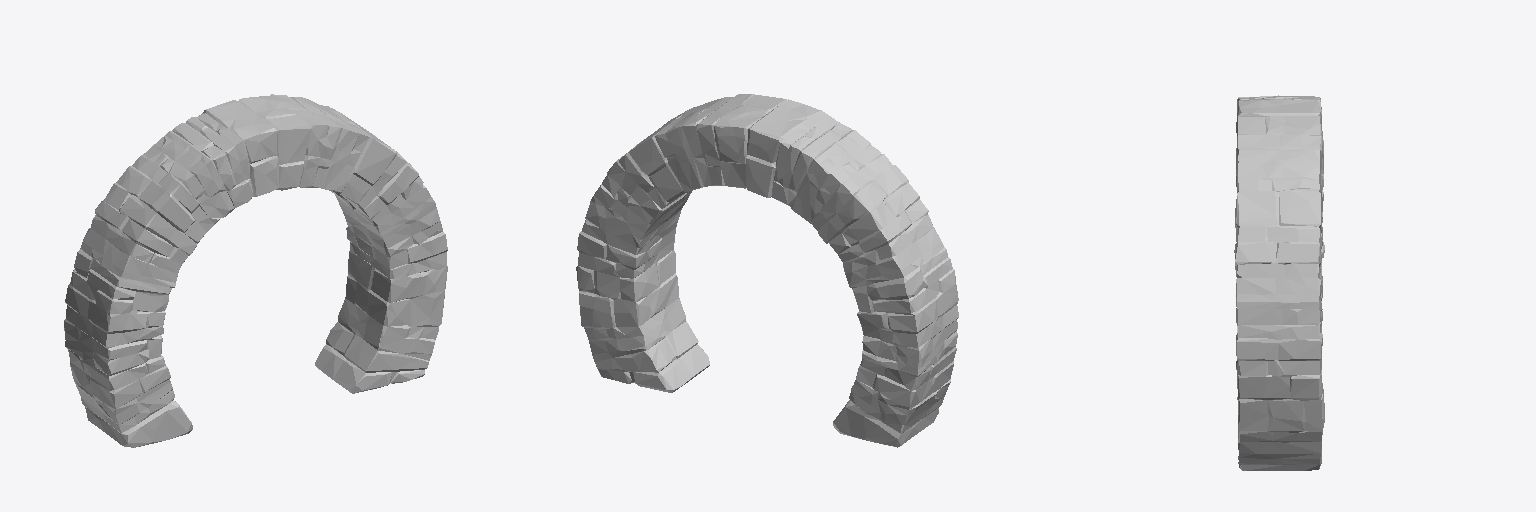
Rendered from Arka_Low LOD1.obj.
3 renders of one model, left to right at view 1: azimuth 30°, elevation 25°; view 2: azimuth 150°, elevation 25°; view 3: azimuth 270°, elevation 25°, orthographic.
Parts seen in each view (by area): view 1: Arka_Low; view 2: Arka_Low; view 3: Arka_Low.
Part boxes in pixels (x1,y1,x2,y2): Arka_Low: (64,94,447,447); Arka_Low: (576,94,958,447); Arka_Low: (1234,95,1324,470).
Size of the model in its own units: 75.25 by 59.58 by 17.19.